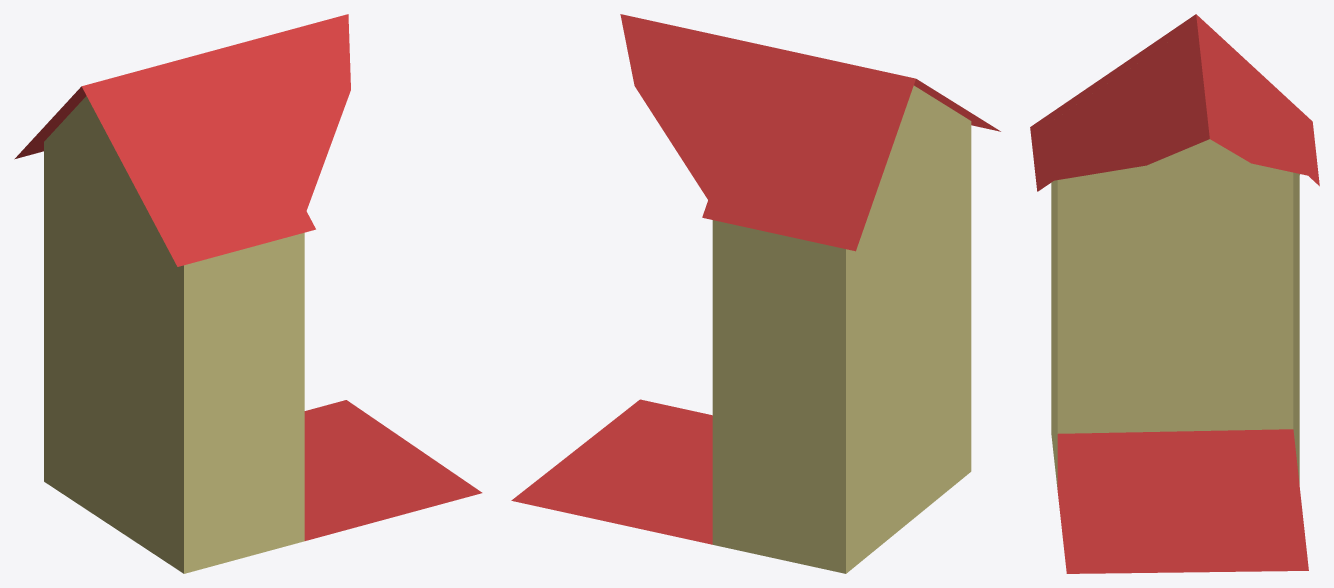
The picture shows the model from 3 angles, left to right: view 1: azimuth 30°, elevation 25°; view 2: azimuth 150°, elevation 25°; view 3: azimuth 270°, elevation 25°; orthographic projection. The views are drawn at different scales.
Bounding box in the file's own units: 8.96 × 7.14 × 11.1.
